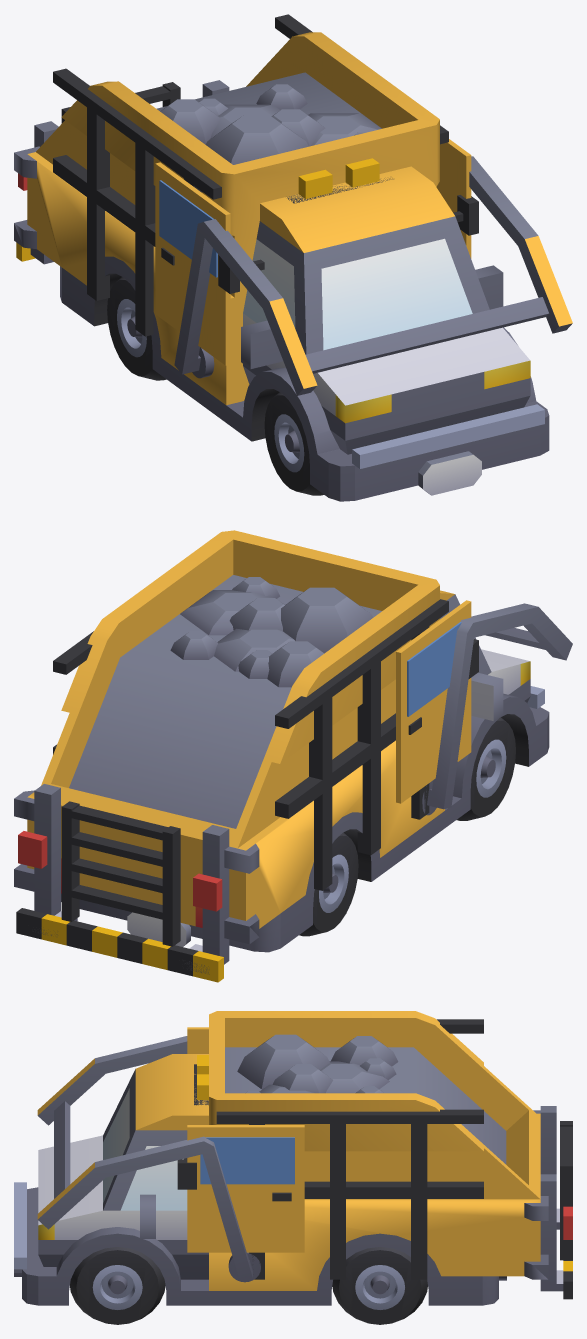
File: bulk.glb
3 views of the same model, one above another, from view 1: azimuth 30°, elevation 25°; view 2: azimuth 150°, elevation 25°; view 3: azimuth 270°, elevation 25° (orthographic). The views are drawn at different scales.
Parts seen in each view (by area): view 1: body, arm, bumper_front, trash, door_right, wheel-front-right, wheel-back-right, door_left, mirror_left, mirror_right; view 2: body, trash, door_right, bumper_rear, arm, wheel-front-right, wheel-back-right, bumper_front; view 3: body, door_left, arm, trash, wheel-front-left, wheel-back-left, bumper_front, bumper_rear, mirror_left, door_right.
Boxes of the visible parts, x1,y1,x2,y2 form: body: (14, 14, 544, 497); arm: (174, 156, 572, 395); bumper_front: (317, 378, 549, 501); trash: (160, 84, 381, 164); door_right: (155, 162, 230, 365); wheel-front-right: (264, 392, 323, 495); wheel-back-right: (107, 277, 166, 380); door_left: (436, 139, 471, 258); mirror_left: (453, 195, 478, 235); mirror_right: (218, 255, 264, 293); body: (14, 530, 547, 955); trash: (170, 577, 373, 687); door_right: (396, 600, 471, 803); bumper_rear: (14, 869, 258, 982); arm: (422, 603, 572, 815); wheel-front-right: (457, 717, 515, 820); wheel-back-right: (299, 832, 358, 936); bumper_front: (518, 679, 549, 752); body: (38, 1011, 572, 1305); door_left: (187, 1125, 304, 1252); arm: (37, 1036, 260, 1282); trash: (237, 1034, 398, 1093); wheel-front-left: (70, 1247, 165, 1324); wheel-back-left: (332, 1247, 427, 1324); bumper_front: (14, 1182, 63, 1305); bumper_rear: (533, 1208, 572, 1299); mirror_left: (177, 1158, 196, 1189); door_right: (187, 1027, 208, 1053).
Size of the model in its own units: 1.6 by 1.6 by 3.45.
Materials: 1 (1 with a texture image).
